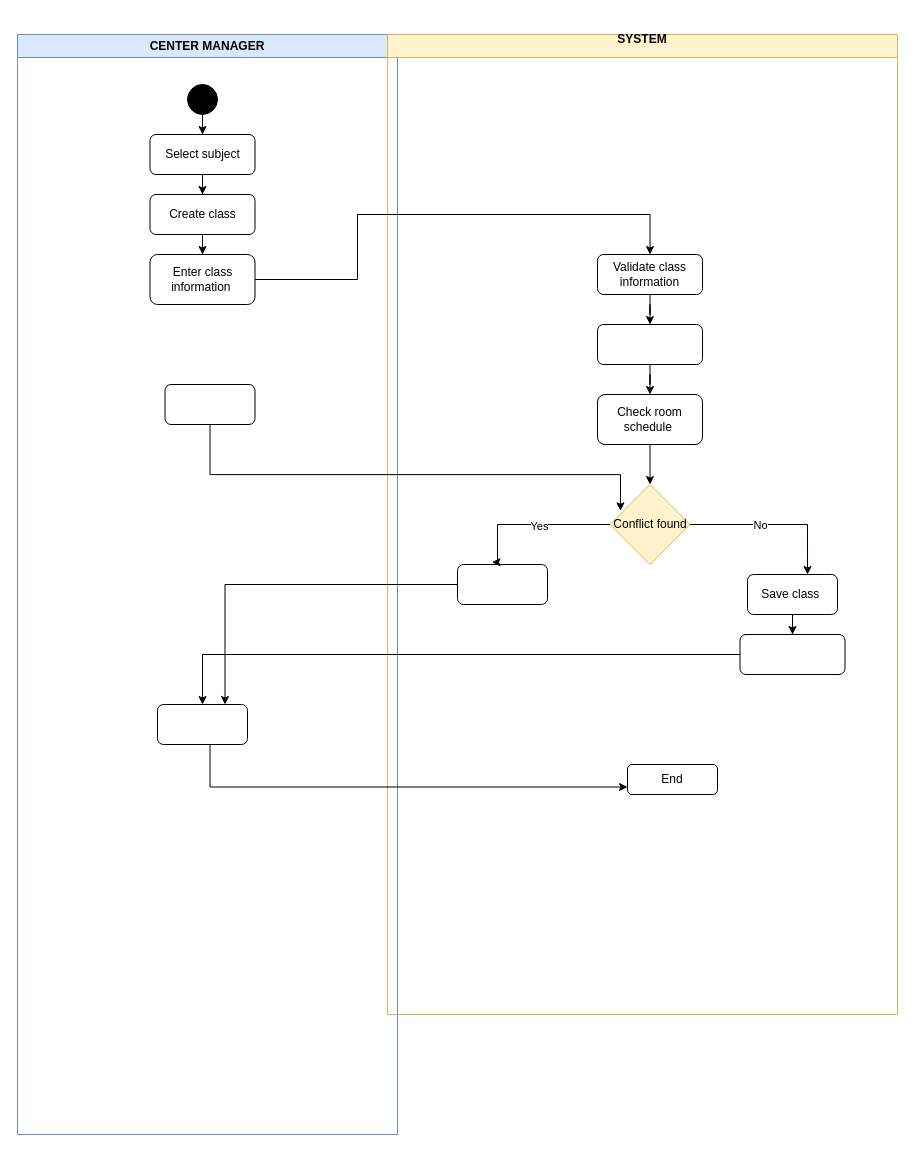
Image size: 915x1152. Some labels were removed from this diagram. The centre of each missing label's shape, as x and y in pixels:
"Check Coach schedule" goes at [649,344].
"Re-enter" goes at [209,404].
"Receive notification" goes at [202,724].
"Show error" goes at [502,584].
"Show success message" goes at [792,654].
